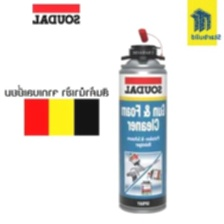aerosol_cans: (114, 23, 170, 216)
